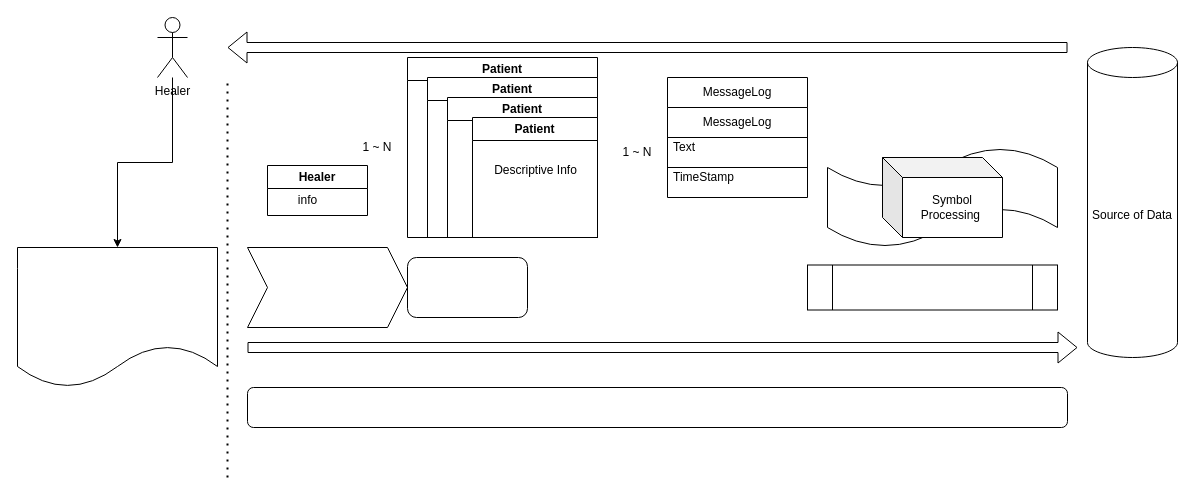
Some shapes in this 1195 by 497 pixel diagram are drawn without their labels. The shapes that lost their labels are listed below. From the top down, each one's centre as x and y in pixels, then its label:
At point 327,287: "HealingController".
At point 467,287: "Services".
At point 932,287: "Patient & Healer Correlation".
At point 117,317: "Dashboard in HealingUIX".
At point 657,407: "HealingCoreServices".
